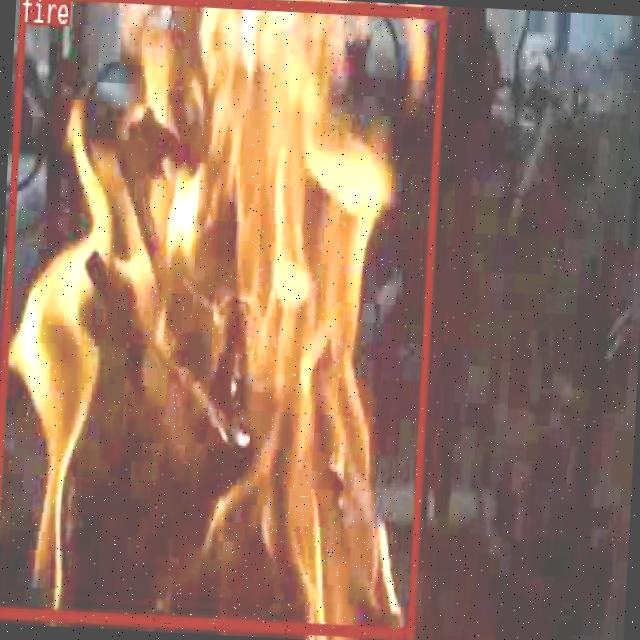fire: (0, 0, 445, 636)
